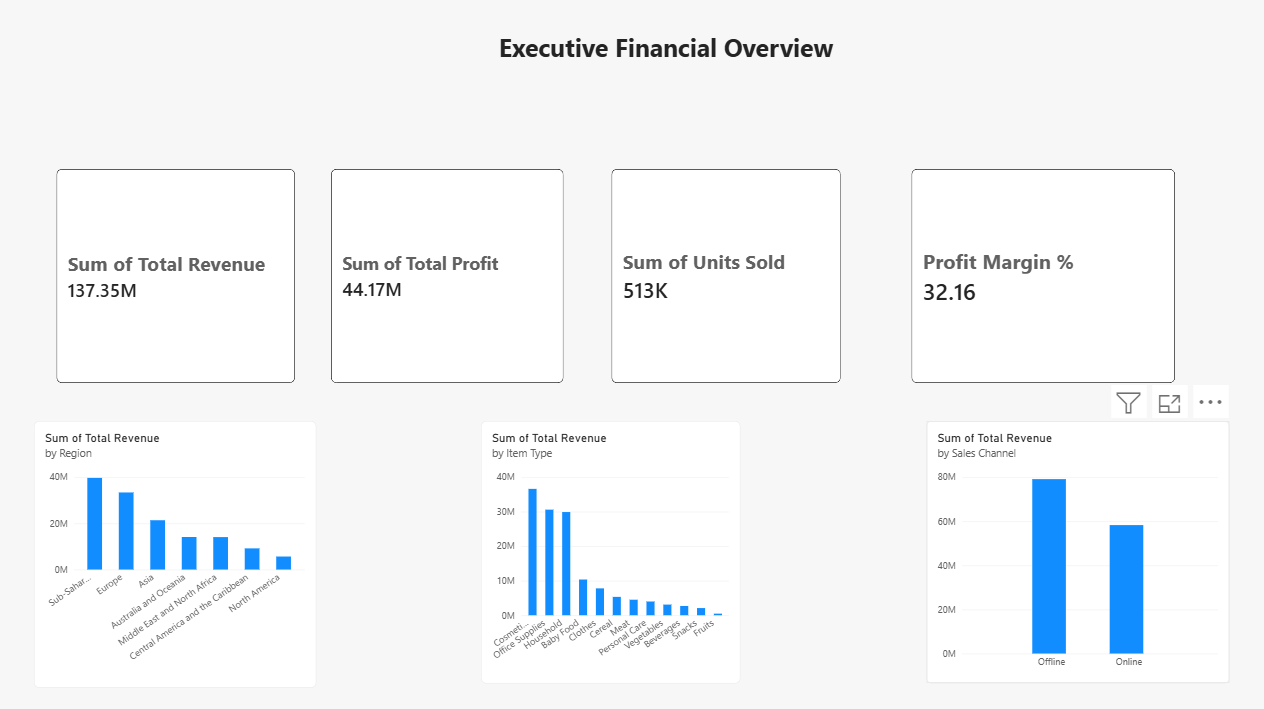

The page's visual inventory and layout, read from the dashboard file:
{"tool":"powerbi","page":{"name":"Executive Financial Overview","canvas":[1920,1080],"ordinal":0},"visuals":[{"type":"cardVisual","fields":{"Data":["Sum(financial_performance financial_sales_cleaned.Total Revenue)"]},"box":[88.6,258.9,361.1,324.8],"z":0},{"type":"cardVisual","fields":{"Data":["Sum(financial_performance financial_sales_cleaned.Total Profit)"]},"box":[504.2,258.9,352.1,324.8],"z":1},{"type":"cardVisual","fields":{"Data":["Sum(financial_performance financial_sales_cleaned.Units Sold)"]},"box":[929,258.9,347.5,324.8],"z":5},{"type":"clusteredColumnChart","fields":{"Category":["financial_performance financial_sales_cleaned.Region"],"Y":["Sum(financial_performance financial_sales_cleaned.Total Revenue)"]},"box":[54.5,640.5,427,404.3],"z":6},{"type":"clusteredColumnChart","fields":{"Category":["financial_performance financial_sales_cleaned.Item Type"],"Y":["Sum(financial_performance financial_sales_cleaned.Total Revenue)"]},"box":[731.4,640.5,392.9,397.5],"z":7},{"type":"clusteredColumnChart","fields":{"Category":["financial_performance financial_sales_cleaned.Sales Channel"],"Y":["Sum(financial_performance financial_sales_cleaned.Total Revenue)"]},"box":[1405.9,640.5,458.8,397.5],"z":8},{"type":"cardVisual","fields":{"Data":["financial_performance financial_sales_cleaned.Profit Margin %"]},"box":[1383.2,258.9,399.8,324.8],"z":9},{"type":"textbox","box":[88.6,0,1614.9,143.1],"z":10}]}

Visuals, with their boxes in screenshot pixels (x1, y1, x2, y2), scaled from the page's 1920x1080 canvas onto the 1264x709 screenshot:
cardVisual - Sum(financial_performance financial_sales_cleaned.Total Revenue): (58,170,296,383)
cardVisual - Sum(financial_performance financial_sales_cleaned.Total Profit): (332,170,564,383)
cardVisual - Sum(financial_performance financial_sales_cleaned.Units Sold): (612,170,840,383)
clusteredColumnChart - financial_performance financial_sales_cleaned.Region x Sum(financial_performance financial_sales_cleaned.Total Revenue): (36,420,317,686)
clusteredColumnChart - financial_performance financial_sales_cleaned.Item Type x Sum(financial_performance financial_sales_cleaned.Total Revenue): (482,420,740,681)
clusteredColumnChart - financial_performance financial_sales_cleaned.Sales Channel x Sum(financial_performance financial_sales_cleaned.Total Revenue): (926,420,1228,681)
cardVisual - financial_performance financial_sales_cleaned.Profit Margin %: (911,170,1174,383)
textbox: (58,0,1121,94)
